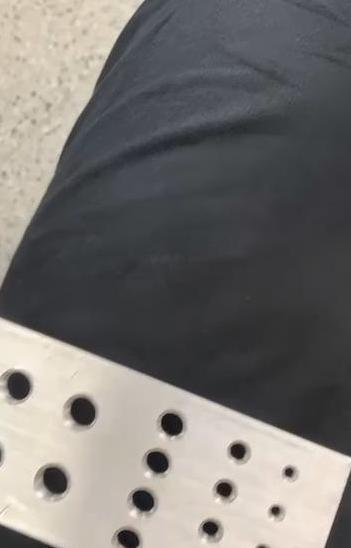hole: (30, 464, 72, 504), (61, 394, 100, 432), (0, 366, 34, 405), (122, 486, 158, 521), (153, 405, 188, 440), (141, 448, 175, 482), (210, 478, 242, 508), (193, 516, 222, 548), (222, 436, 252, 466), (106, 526, 143, 548), (264, 501, 286, 524), (278, 464, 298, 486), (247, 540, 269, 548)
